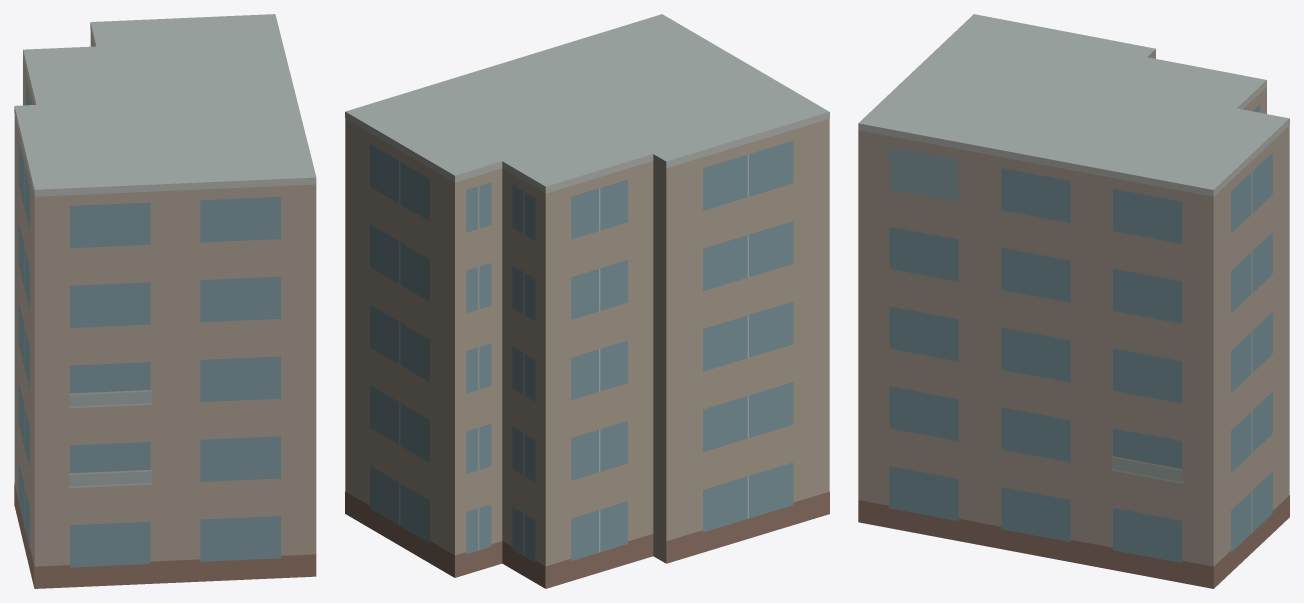
The model's file is survey-upis-33023652.glb.
The picture shows the model from 3 angles, left to right: view 1: azimuth 30°, elevation 25°; view 2: azimuth 150°, elevation 25°; view 3: azimuth 270°, elevation 25°; orthographic projection.
Visible parts, largest first — view 1: survey-upis-33023652.tmp; view 2: survey-upis-33023652.tmp; view 3: survey-upis-33023652.tmp.
Part boxes in pixels (x1=…): survey-upis-33023652.tmp: x1=14, y1=14, x2=316, y2=588; survey-upis-33023652.tmp: x1=345, y1=14, x2=829, y2=588; survey-upis-33023652.tmp: x1=858, y1=14, x2=1289, y2=588.
Size of the model in its own units: 13.4 by 14.15 by 13.88.
